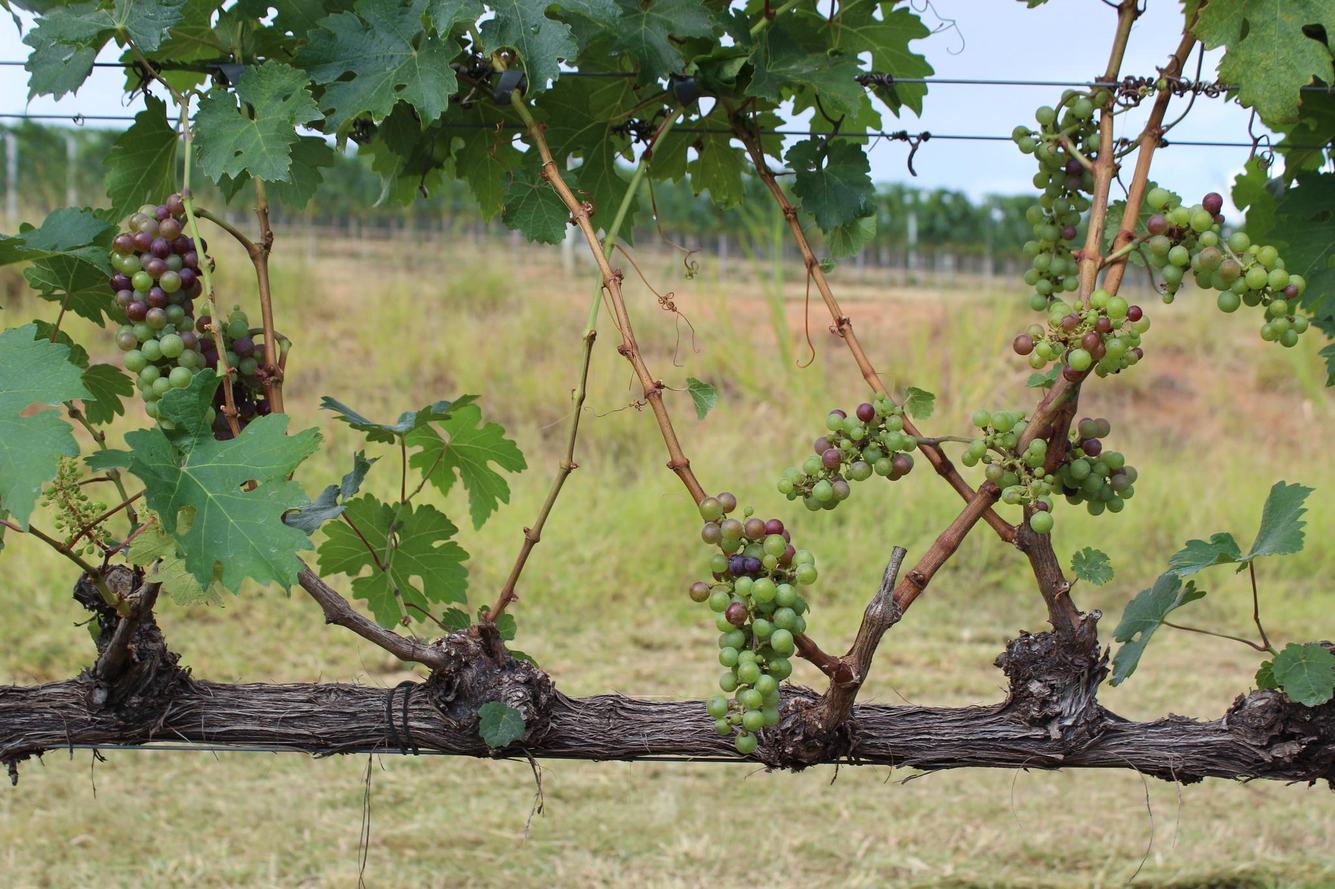Grape Unripe: (689, 492, 807, 753), (1147, 187, 1310, 346), (1010, 83, 1107, 310), (110, 194, 207, 415), (970, 411, 1137, 531), (778, 400, 917, 508), (1013, 288, 1147, 379)
